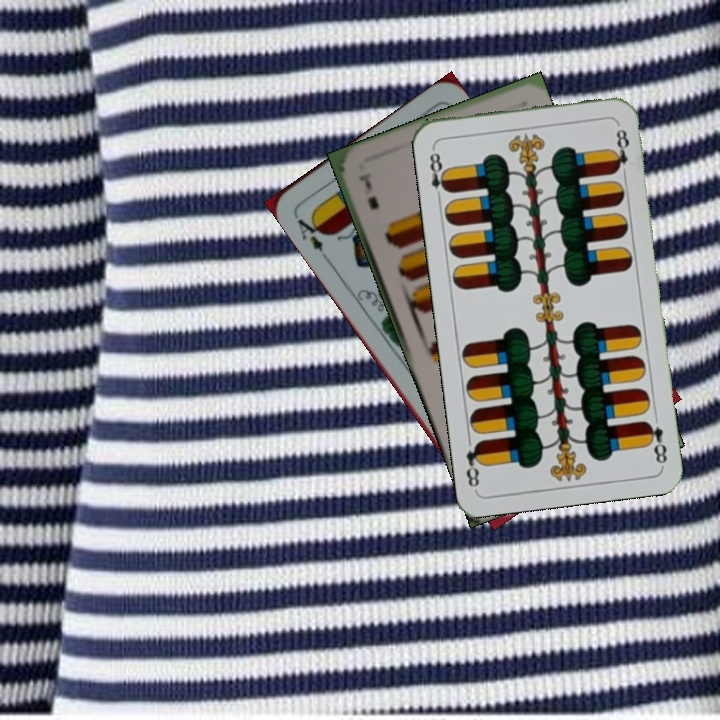E7: (355, 169, 382, 213)
E8: (425, 144, 453, 203), (641, 417, 670, 468)
EA: (290, 210, 330, 255)
